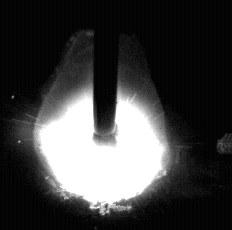arame: (94, 0, 118, 147)
poca: (34, 0, 171, 230)
